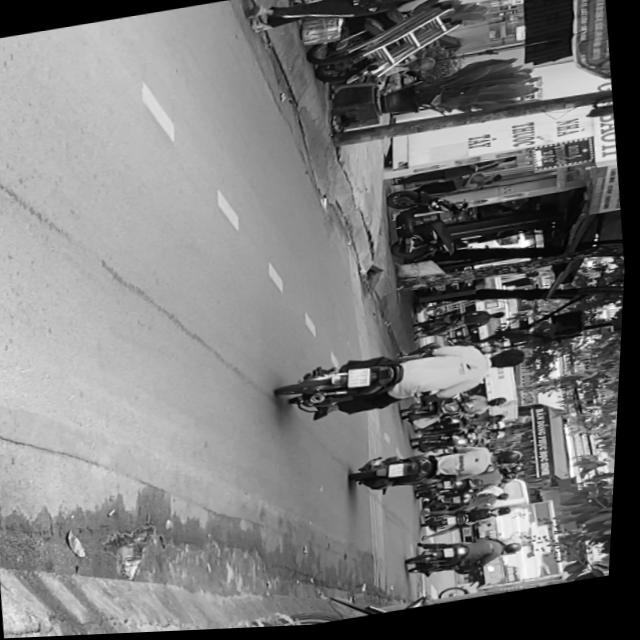helmet: (498, 450, 529, 469)
licenseplate: (277, 329, 539, 430), (354, 435, 531, 500)
motorcyclist: (491, 348, 534, 375)
nohelmet: (351, 369, 377, 391), (393, 465, 411, 481)
